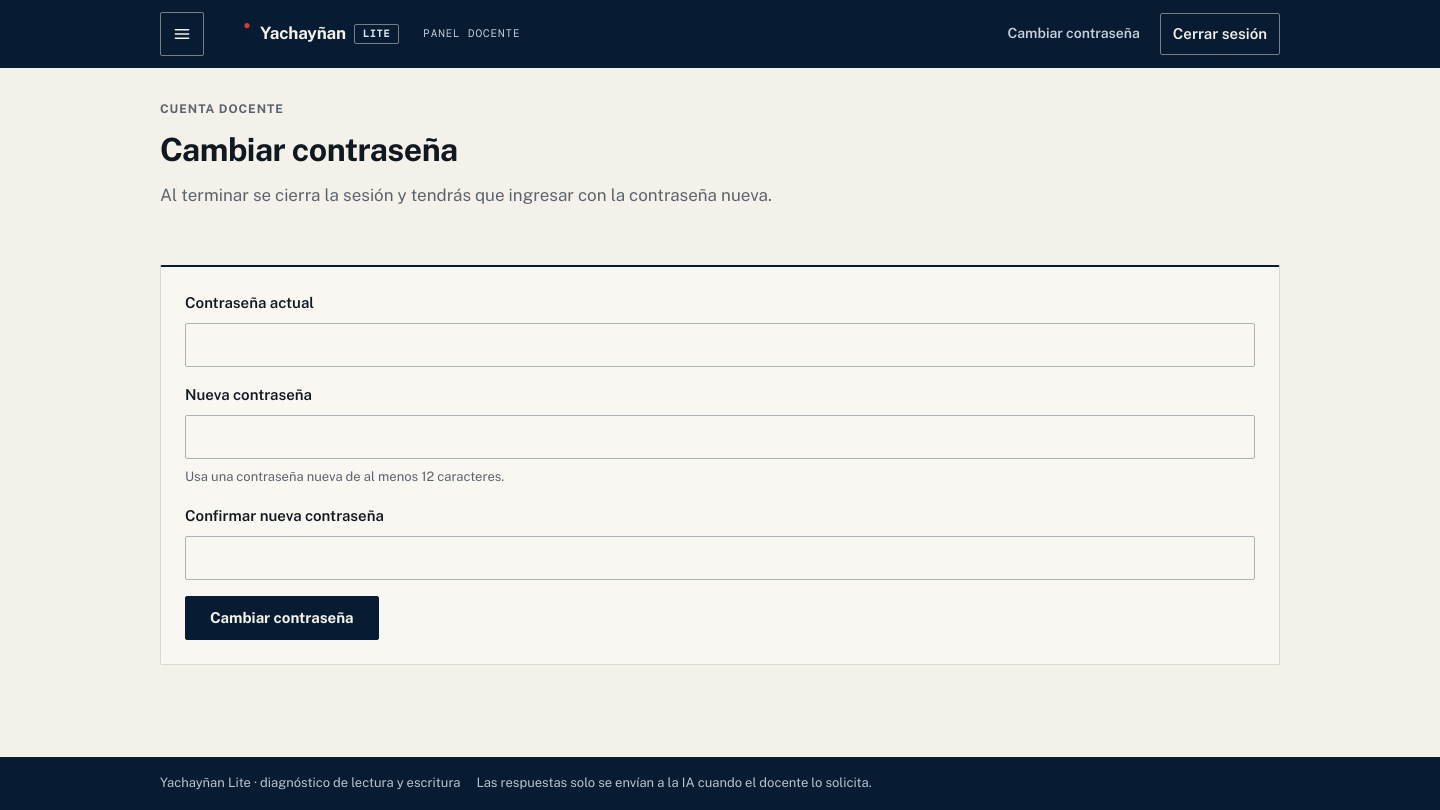
Scenario: App › exige que la confirmación coincida con la nueva contraseña
Expected: the form named "Cambio de contraseña docente" is shown, top-left (185, 291), bottom-right (1255, 640)
Type "actual-secreta" into the password field labelled "Contraseña actual".
click(720, 345); type("actual-secreta")  # box top-left (185, 323), bottom-right (1255, 367)
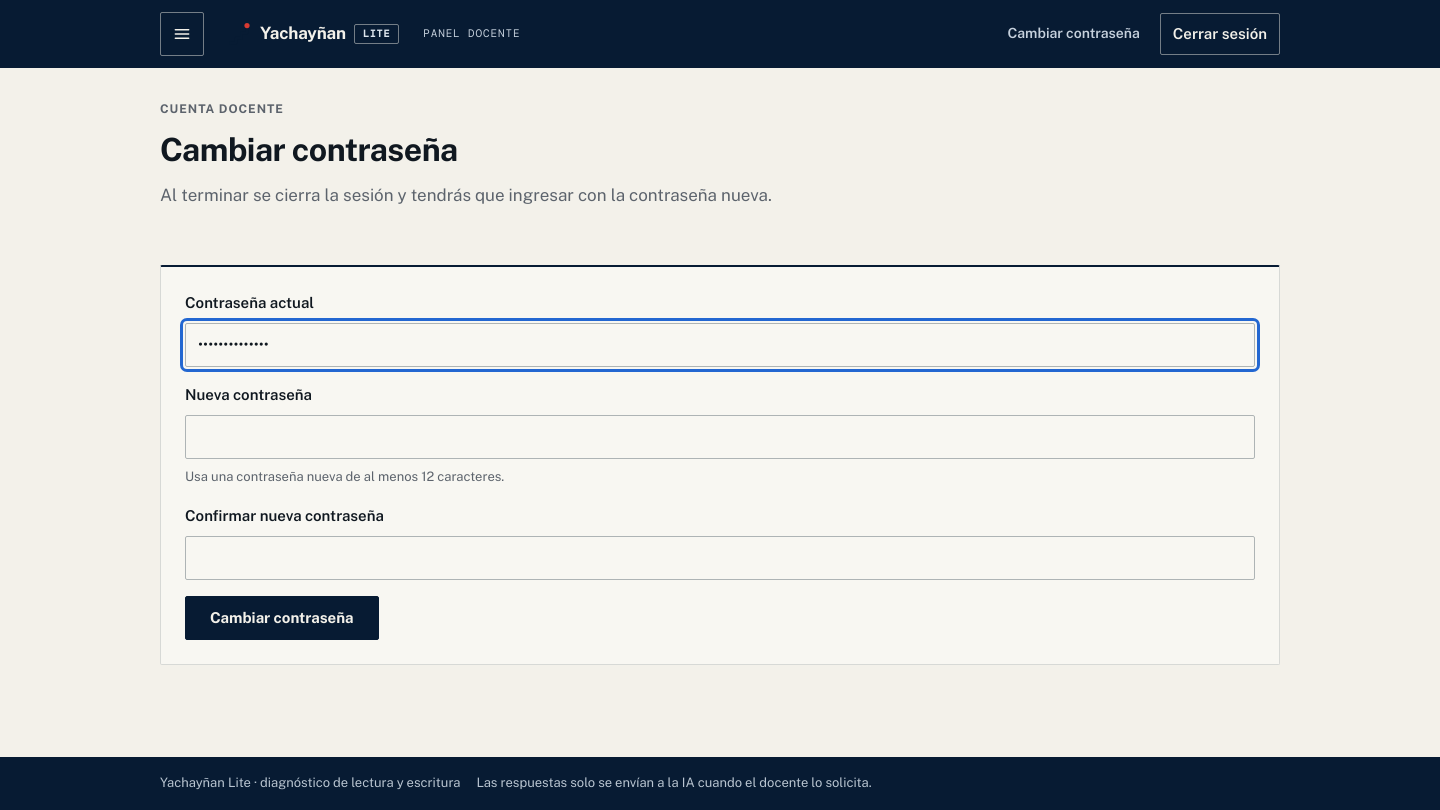
Type "nueva-secreta-2026" into the password field labelled "Nueva contraseña".
click(720, 437); type("nueva-secreta-2026")  # box top-left (185, 415), bottom-right (1255, 459)
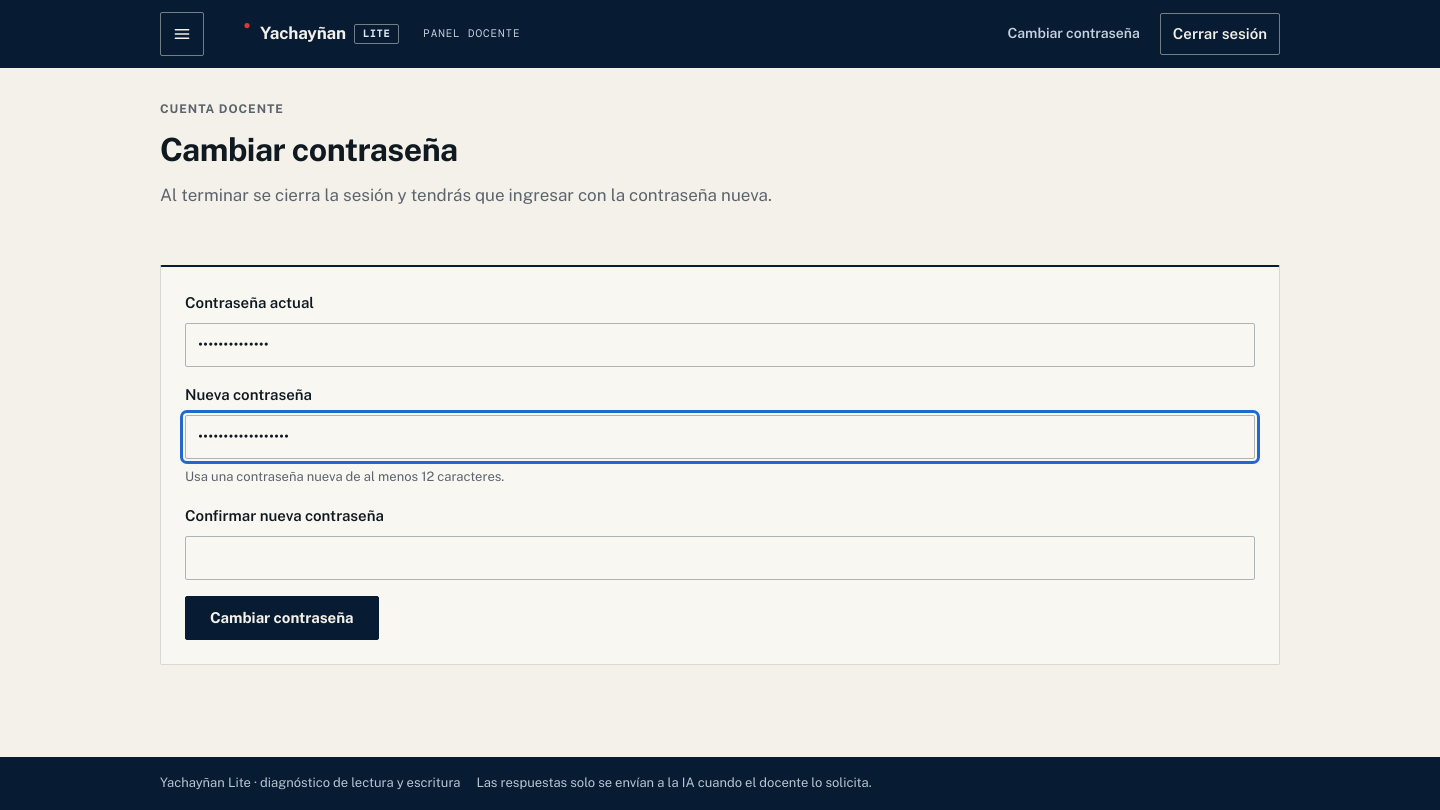
Type "otra-secreta-2026" into the password field labelled "Confirmar nueva contraseña".
click(720, 558); type("otra-secreta-2026")  # box top-left (185, 536), bottom-right (1255, 580)
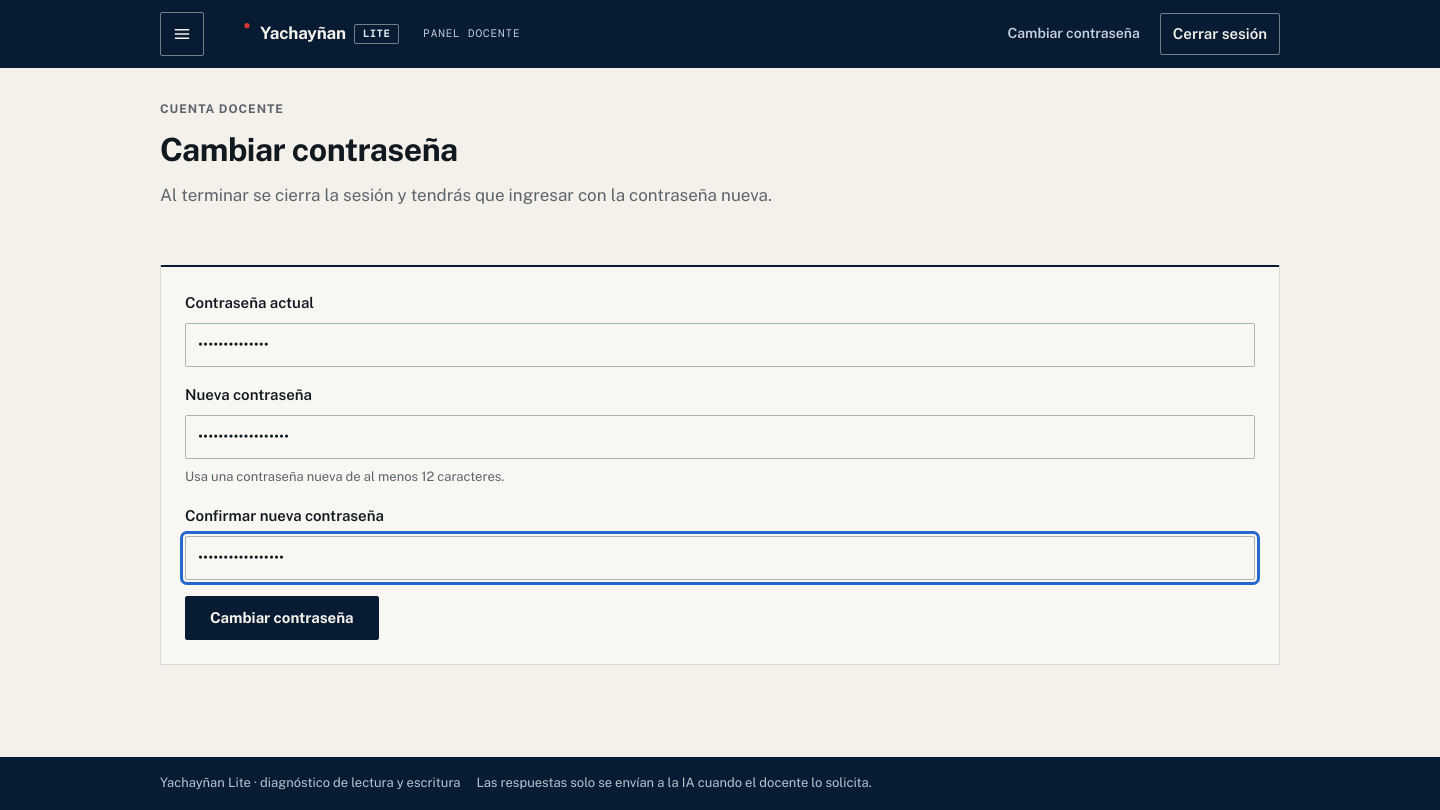
Click the button "Cambiar contraseña".
click(282, 618)  # box top-left (185, 596), bottom-right (379, 640)
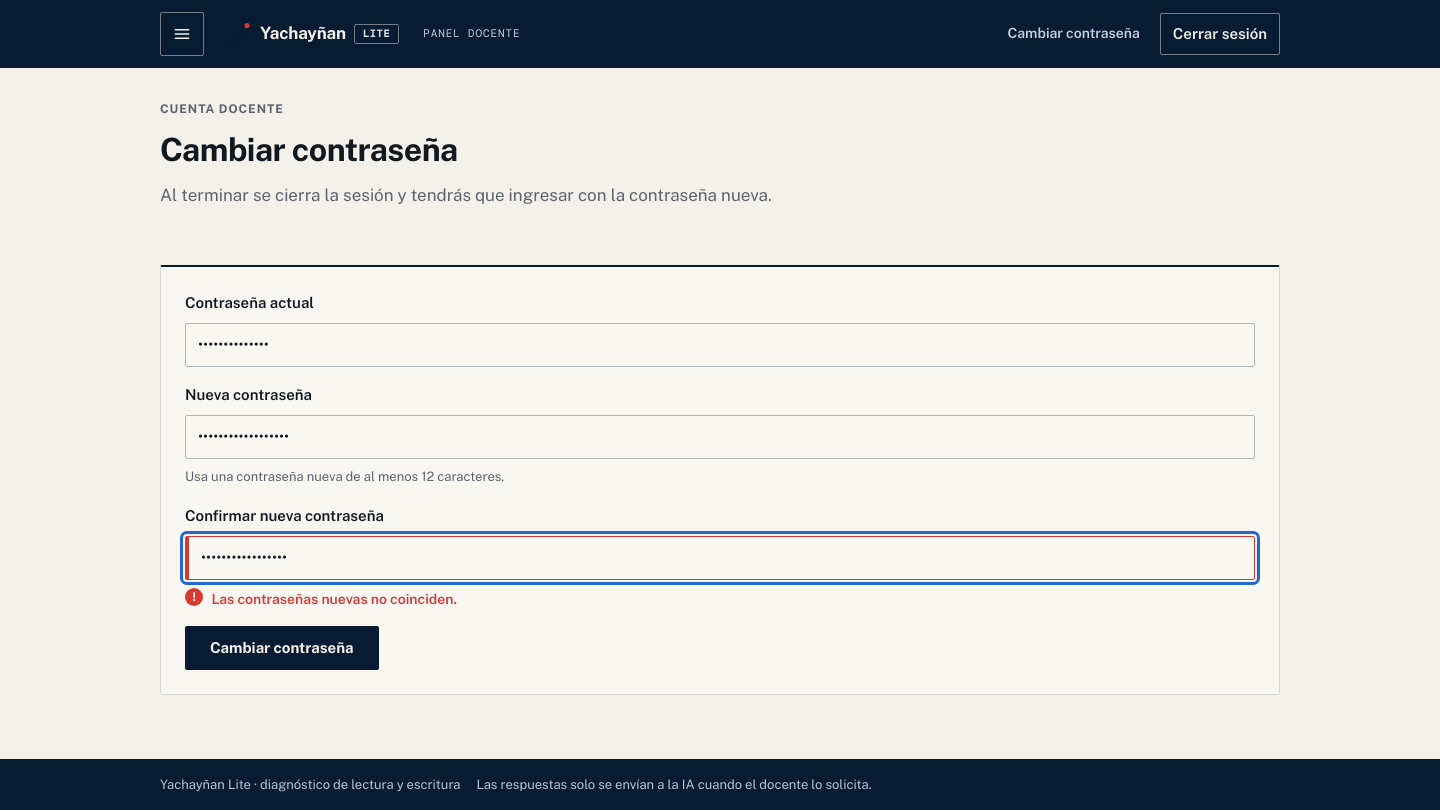
Expected: the text "Las contraseñas nuevas no coinciden." is shown, top-left (211, 591), bottom-right (457, 607)
